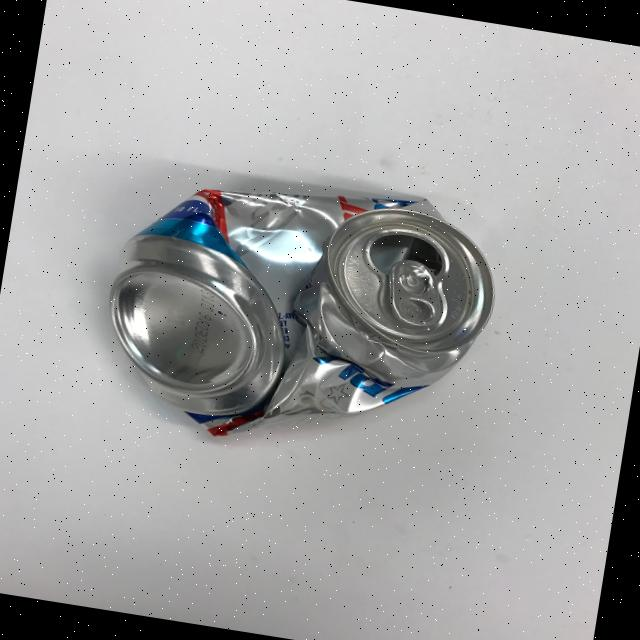metal: (89, 152, 508, 476)
